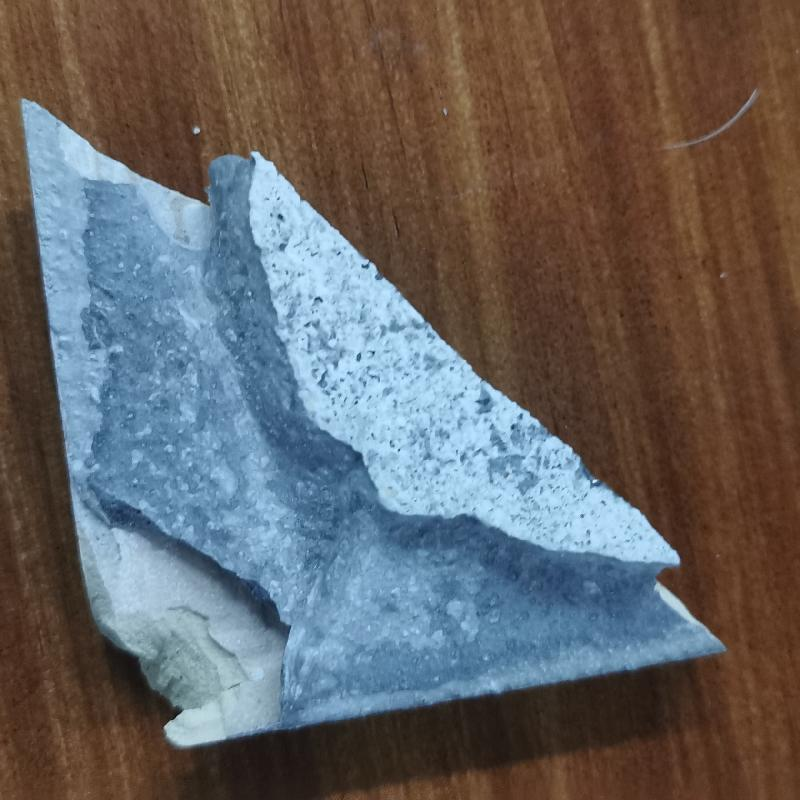tile: (13, 89, 727, 756)
